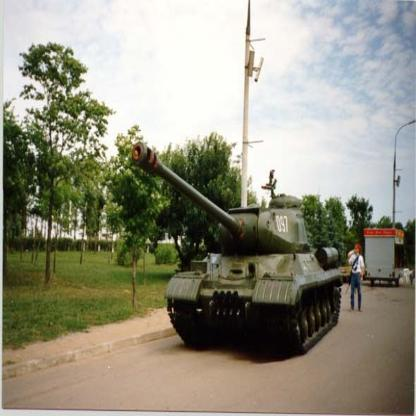Tank: (127, 138, 345, 365)
